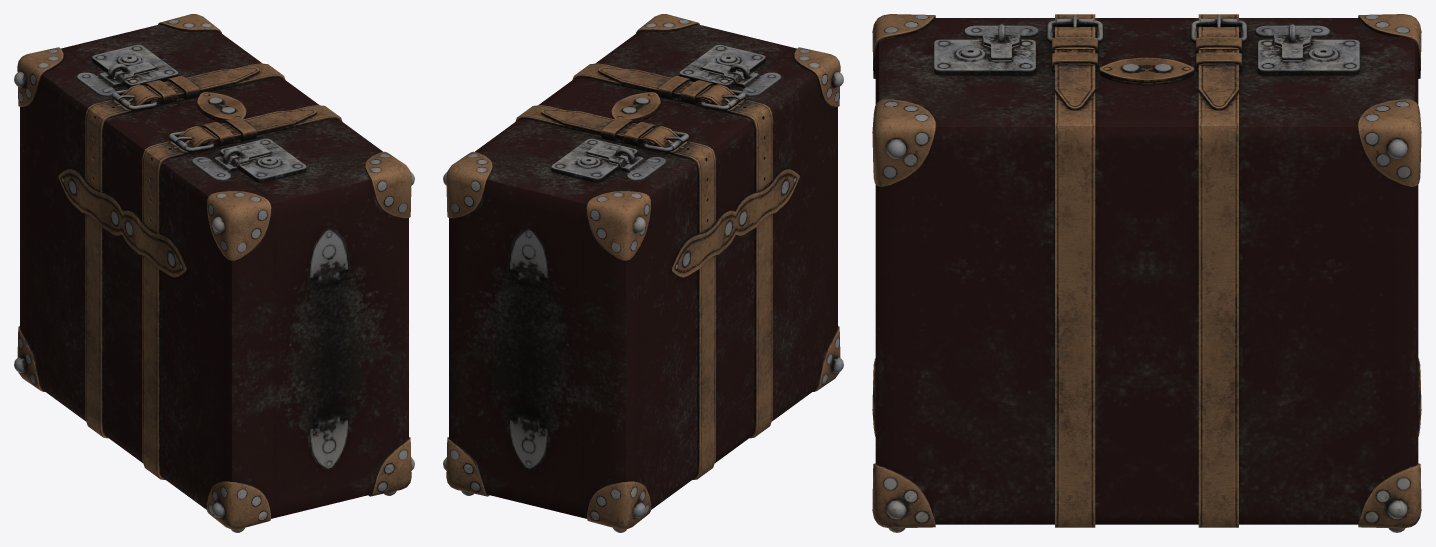
The model's file is SM_TravelCase_SealedSmall.fbx.
The picture shows the model from 3 angles, left to right: view 1: azimuth 30°, elevation 25°; view 2: azimuth 150°, elevation 25°; view 3: azimuth 270°, elevation 25°; orthographic projection. The views are drawn at different scales.
Parts seen in each view (by area): view 1: SM_TravelCase_SealedSmall_LOD0; view 2: SM_TravelCase_SealedSmall_LOD0; view 3: SM_TravelCase_SealedSmall_LOD0.
Boxes of the visible parts, bbox=[...] form: SM_TravelCase_SealedSmall_LOD0: bbox=[14, 14, 414, 532]; SM_TravelCase_SealedSmall_LOD0: bbox=[443, 14, 843, 532]; SM_TravelCase_SealedSmall_LOD0: bbox=[872, 14, 1421, 532].
Bounding box in the file's own units: 60.81 × 114 × 99.73.
Materials: 1 (1 with a texture image).
